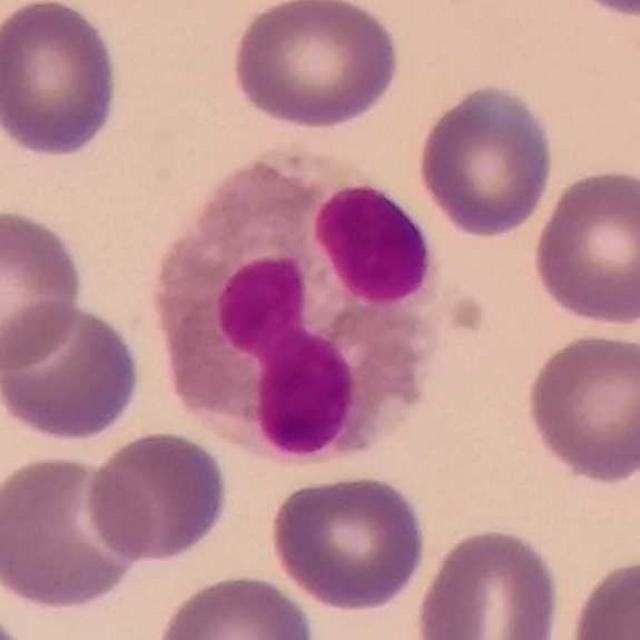eosino: (148, 141, 454, 491)
